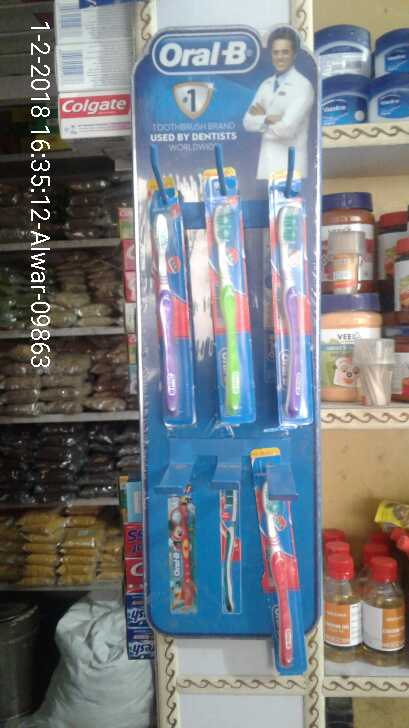oralb: (254, 452, 319, 695), (135, 191, 203, 419), (207, 169, 265, 426), (265, 173, 316, 434)
